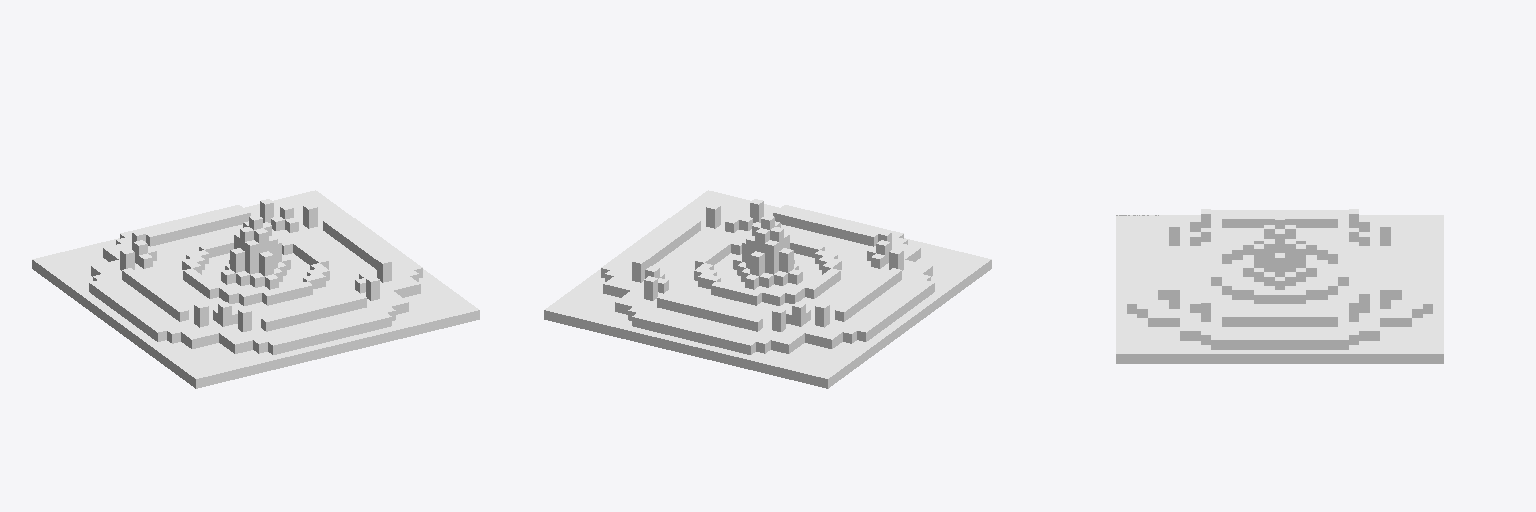
File: Centre.obj
3 views of the same model, side by side, from view 1: azimuth 30°, elevation 25°; view 2: azimuth 150°, elevation 25°; view 3: azimuth 270°, elevation 25° (orthographic).
Parts seen in each view (by area): view 1: Centre; view 2: Centre; view 3: Centre.
Part boxes in pixels (left/top/right/bottom): Centre: left=32, top=190, right=479, bottom=388; Centre: left=544, top=190, right=991, bottom=388; Centre: left=1116, top=209, right=1443, bottom=363.
Size of the model in its own units: 31 by 8 by 31.